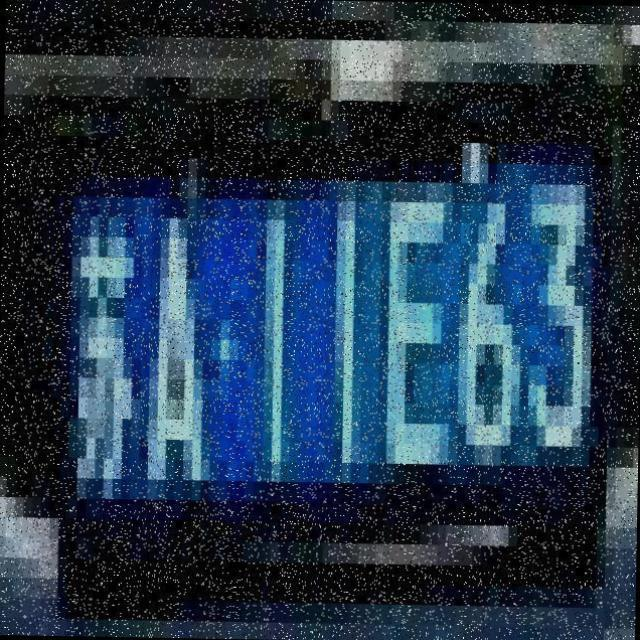License Plate: (40, 106, 626, 626)
